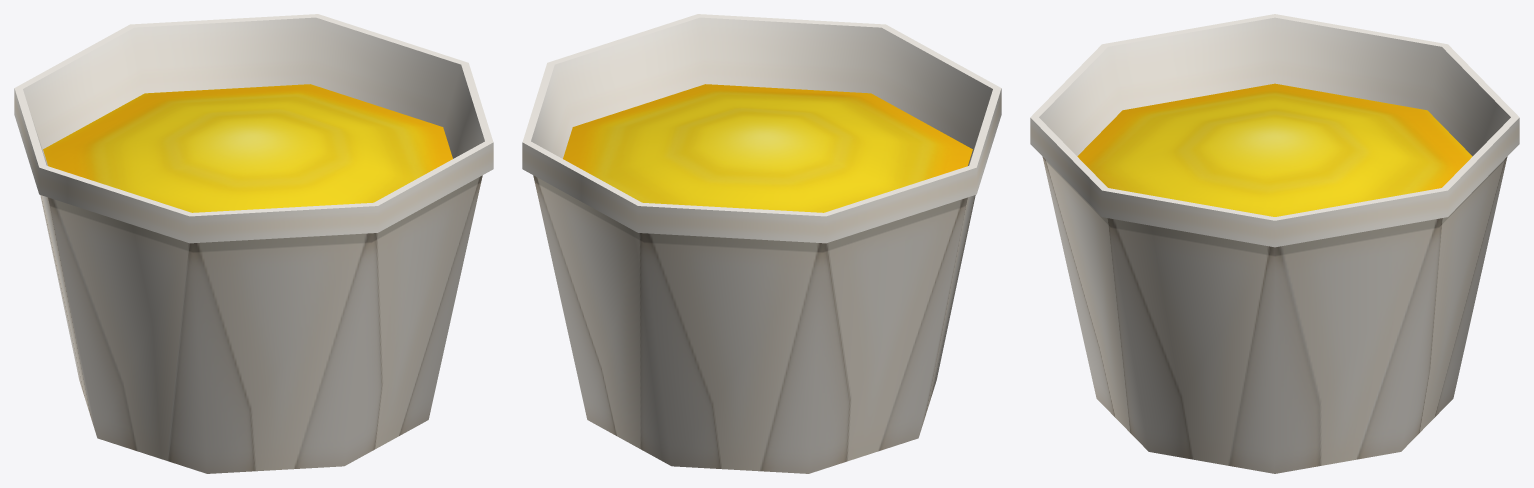
File: fff_sauce_cup_mustard.FBX
3 renders of one model, left to right at view 1: azimuth 30°, elevation 25°; view 2: azimuth 150°, elevation 25°; view 3: azimuth 270°, elevation 25°, orthographic.
Visible parts, largest first — view 1: fff_sauce_cup_mustard; view 2: fff_sauce_cup_mustard; view 3: fff_sauce_cup_mustard.
Boxes of the visible parts, box(x1,y1,x2,y2) form: fff_sauce_cup_mustard: box(14, 14, 493, 473); fff_sauce_cup_mustard: box(522, 14, 1001, 473); fff_sauce_cup_mustard: box(1030, 14, 1519, 473).
Size of the model in its own units: 1.68 by 1.06 by 1.68.
